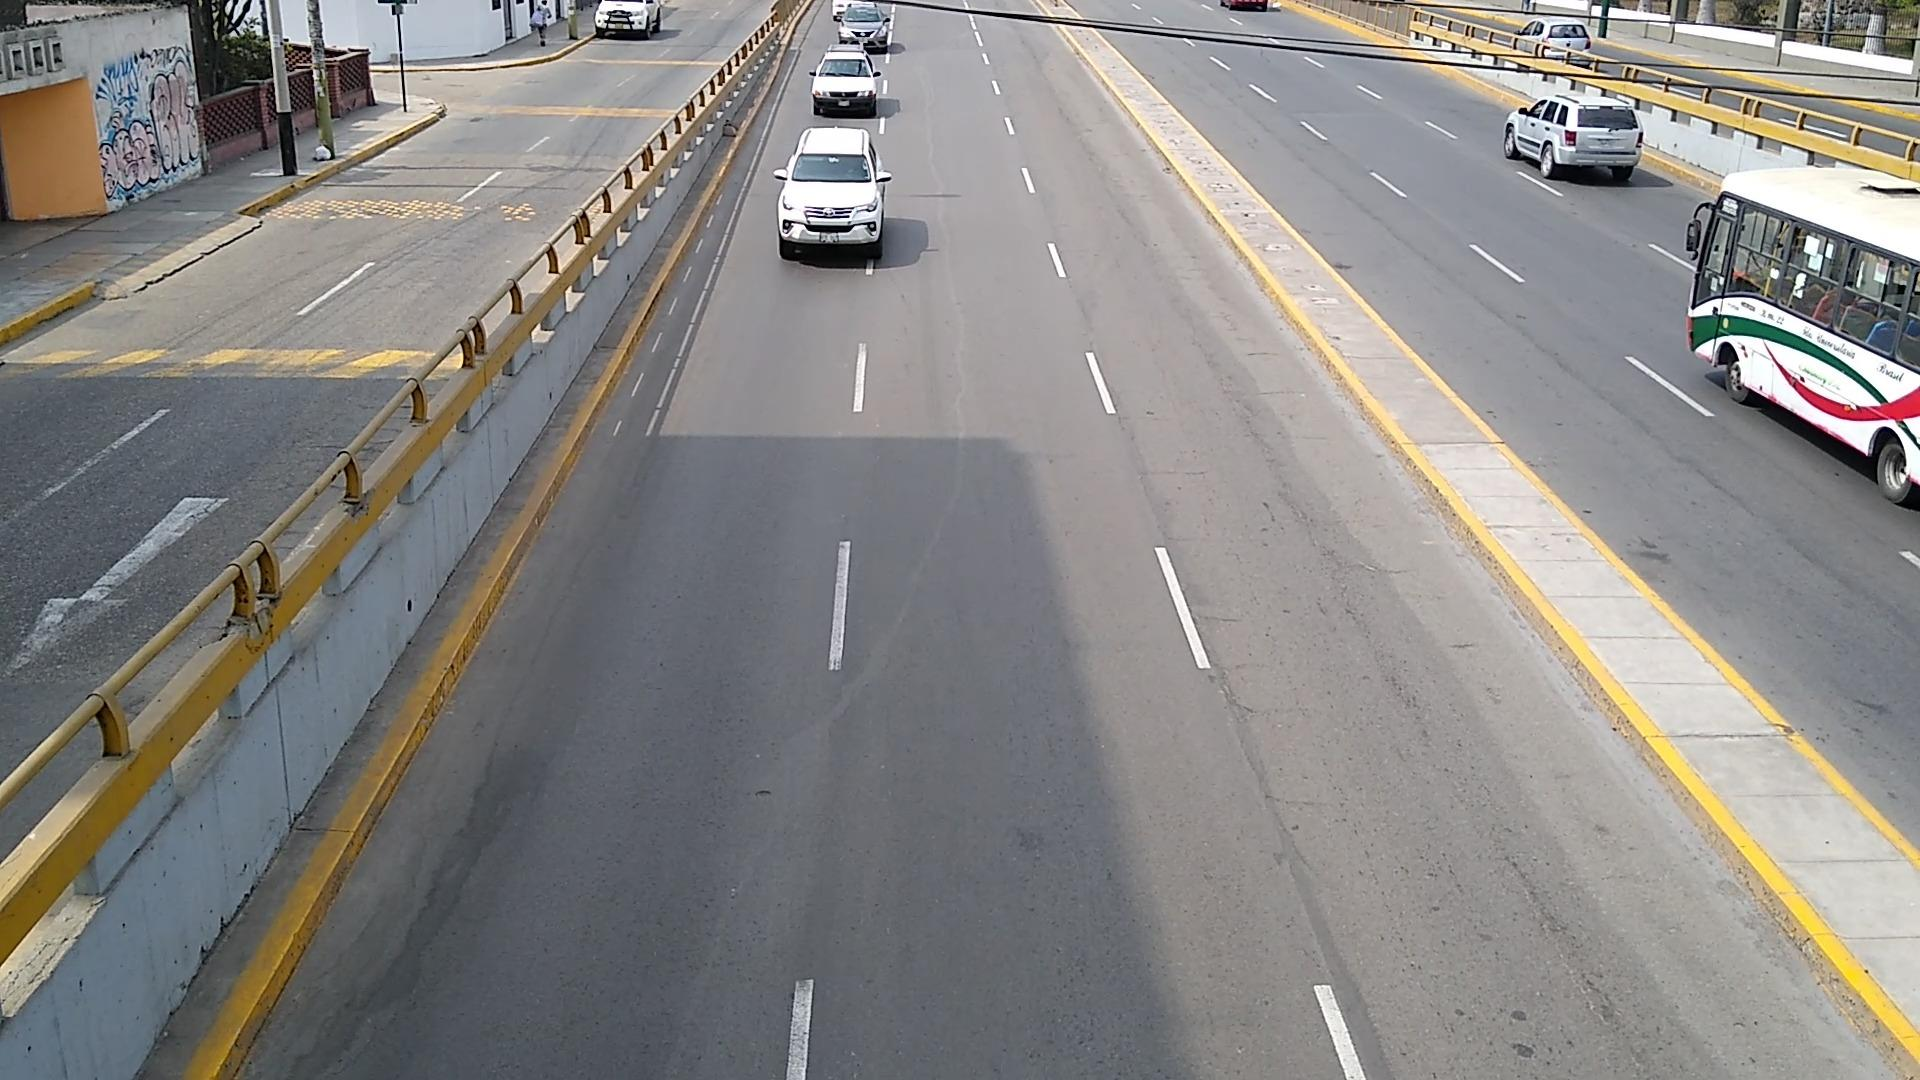bus: (1688, 169, 1920, 502)
car: (773, 128, 893, 262), (1503, 94, 1643, 179), (810, 45, 881, 111), (840, 0, 893, 49)
